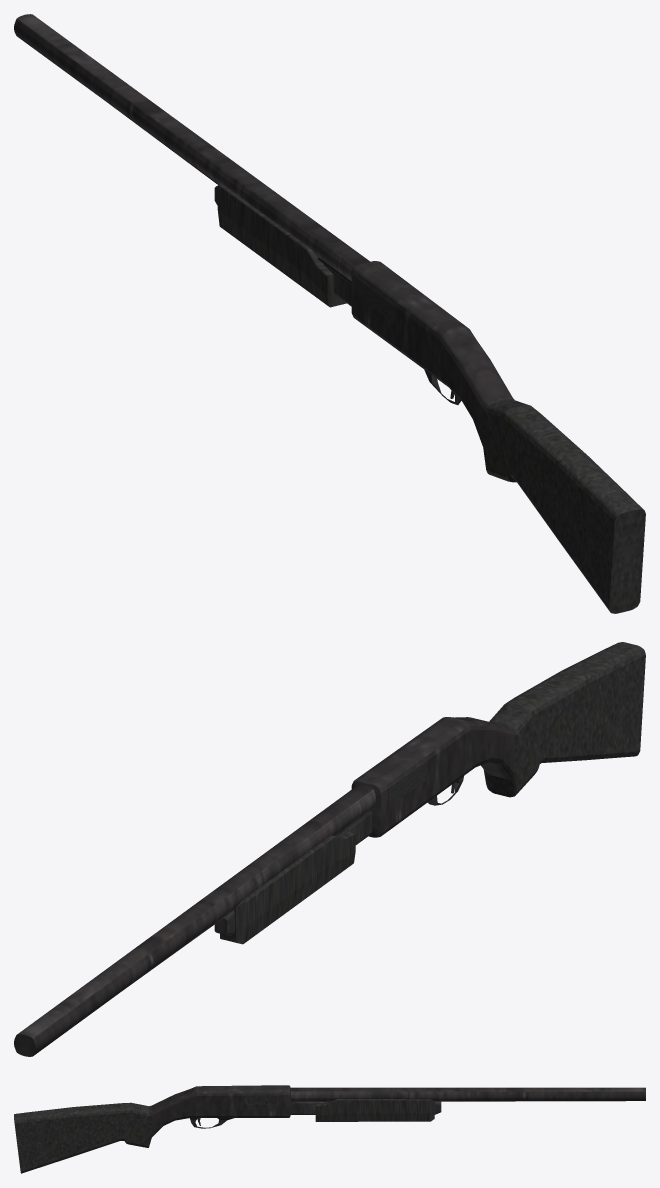
File: shoutgun1.fbx
The picture shows the model from 3 angles, top to bottom: view 1: azimuth 30°, elevation 25°; view 2: azimuth 150°, elevation 25°; view 3: azimuth 270°, elevation 25°; orthographic projection. The views are drawn at different scales.
Parts seen in each view (by area): view 1: Cube, Cube.001; view 2: Cube, Cube.001, Cube.005; view 3: Cube, Cube.001, Cube.004.
Boxes of the visible parts, box(x1,y1,x2,y2) form: Cube: box(14, 14, 645, 613); Cube.001: box(217, 183, 346, 307); Cube: box(14, 642, 645, 1056); Cube.001: box(220, 831, 355, 944); Cube.005: box(388, 762, 425, 806); Cube: box(14, 1085, 645, 1173); Cube.001: box(315, 1099, 434, 1121); Cube.004: box(244, 1095, 282, 1104).
Size of the model in its own units: 14.96 by 73.4 by 499.
